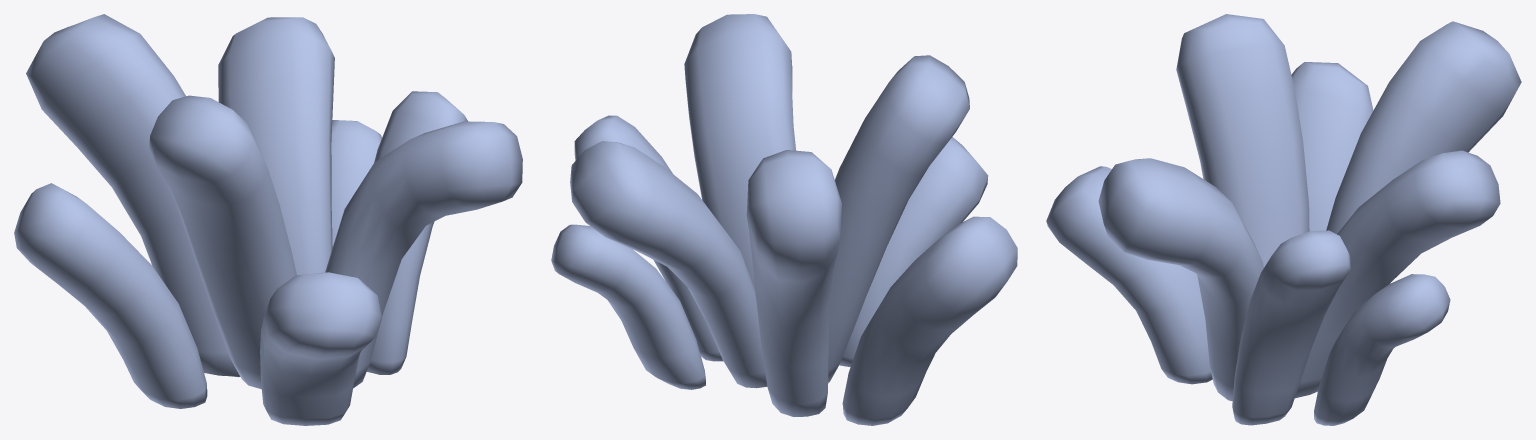
Rendered from Anemone_A_02.fbx.
3 renders of one model, left to right at view 1: azimuth 30°, elevation 25°; view 2: azimuth 150°, elevation 25°; view 3: azimuth 270°, elevation 25°, orthographic. The views are drawn at different scales.
Visible parts, largest first — view 1: Anemone_A_02_LOD0; view 2: Anemone_A_02_LOD0; view 3: Anemone_A_02_LOD0.
Part boxes in pixels (<box>): Anemone_A_02_LOD0: <box>14,14,522,425</box>; Anemone_A_02_LOD0: <box>551,14,1017,425</box>; Anemone_A_02_LOD0: <box>1046,14,1521,425</box>.
Size of what is drawn, in the model's own units: 418 by 296 by 409.
